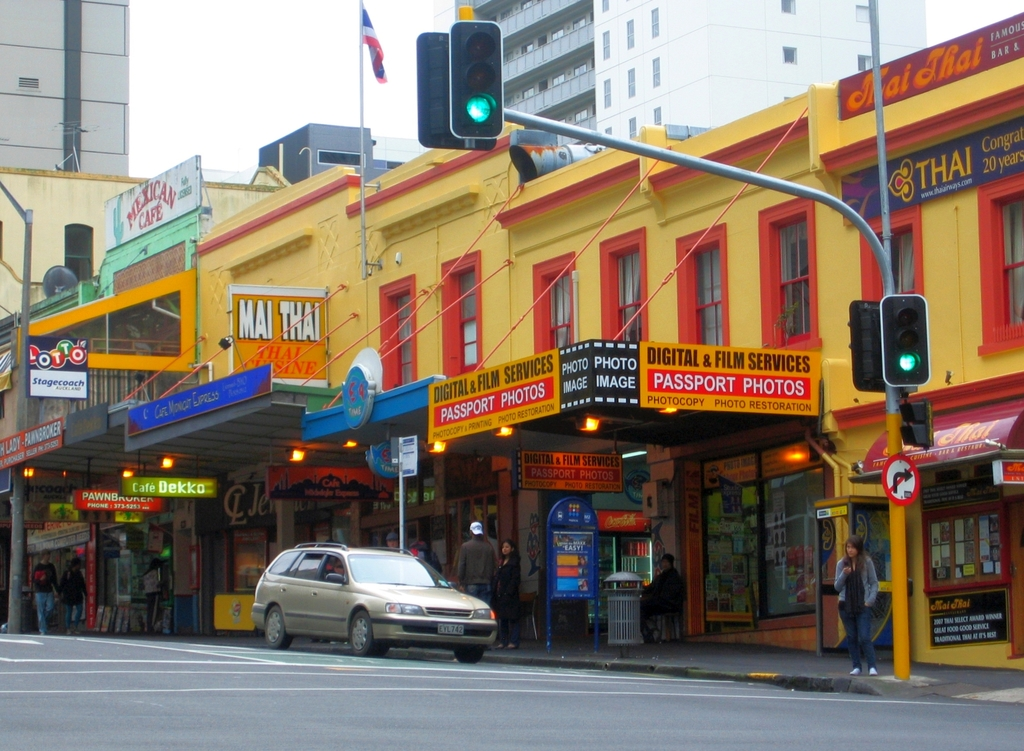Car: (242, 542, 506, 663)
